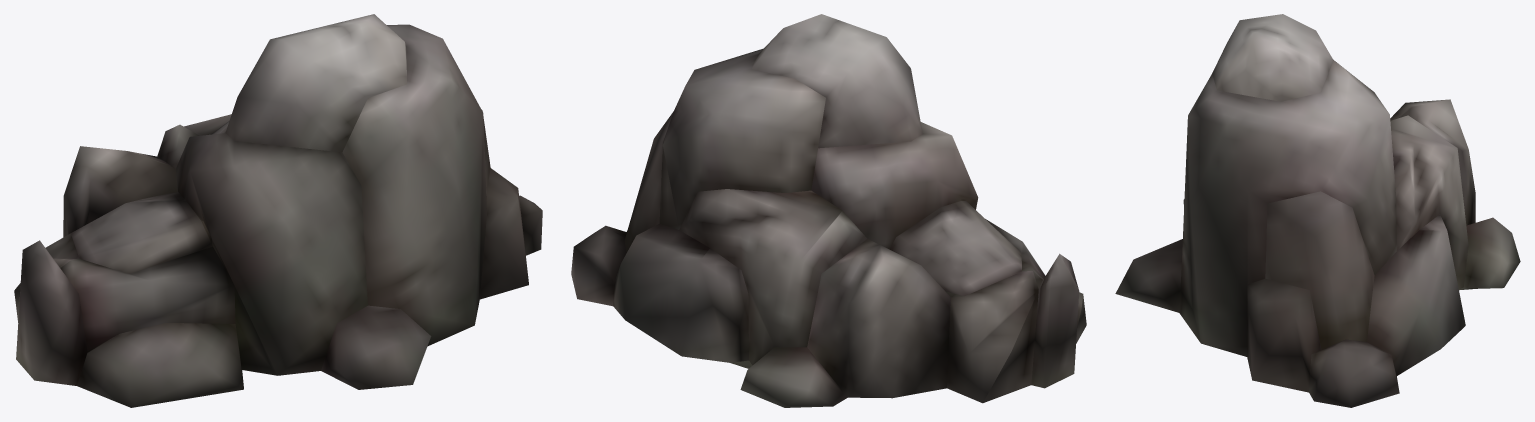
Rendered from rock-big-1.lod1.glb.
3 renders of one model, left to right at view 1: azimuth 30°, elevation 25°; view 2: azimuth 150°, elevation 25°; view 3: azimuth 270°, elevation 25°, orthographic. The views are drawn at different scales.
Visible parts, largest first — view 1: Big_2_BiG_0; view 2: Big_2_BiG_0; view 3: Big_2_BiG_0.
Boxes of the visible parts, x1=… form: Big_2_BiG_0: x1=14, y1=14, x2=542, y2=407; Big_2_BiG_0: x1=571, y1=14, x2=1086, y2=407; Big_2_BiG_0: x1=1115, y1=14, x2=1520, y2=407.
Bounding box in the file's own units: 6.98 × 3.78 × 5.01.
Materials: 1 (1 with a texture image).
